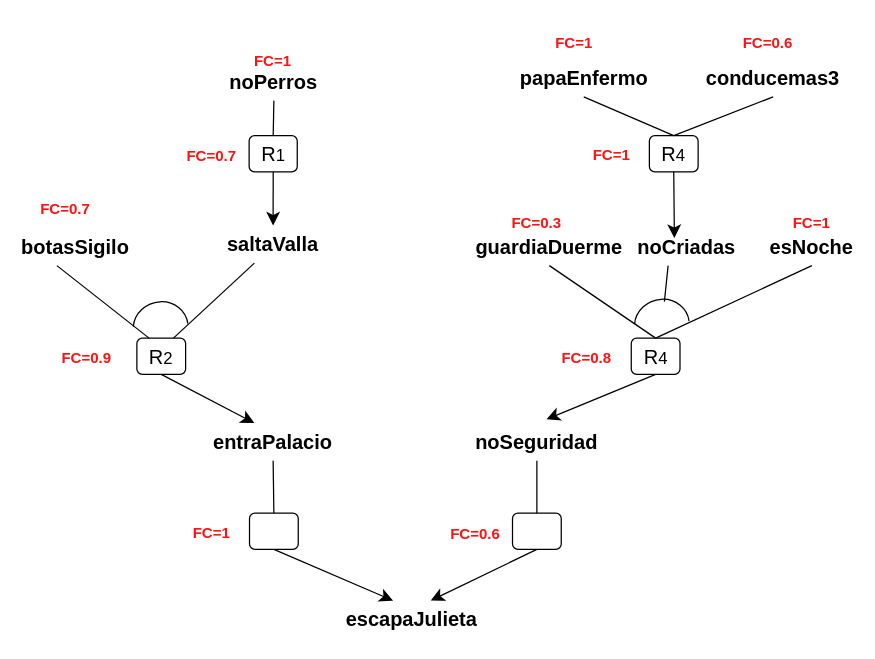
The diagram is 875 pixels wide and 659 high, and some of its shapes have lost their labels. Each missing label, with the box of its shape:
R 5: (511, 512, 561, 549)
R 6: (248, 512, 298, 549)
